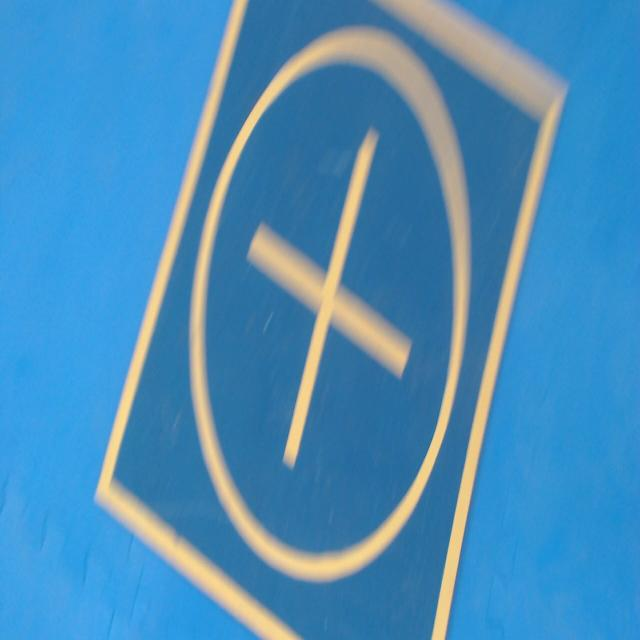base_pouso: (95, 0, 567, 639)
